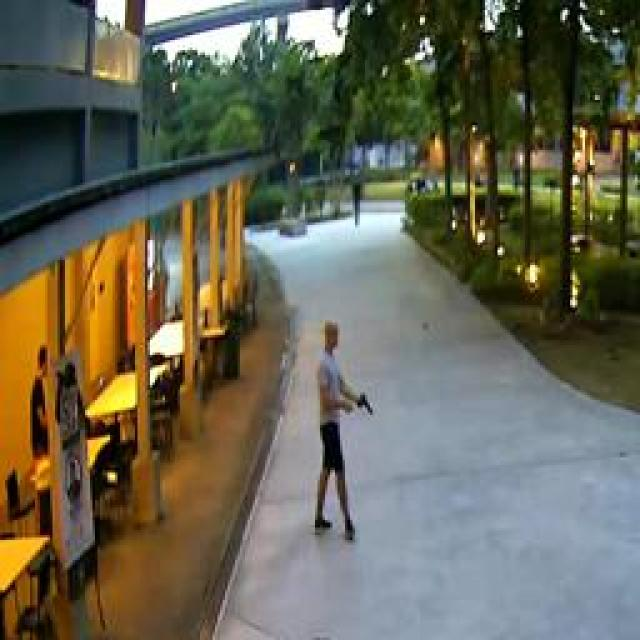Guns: (354, 384, 380, 418)
